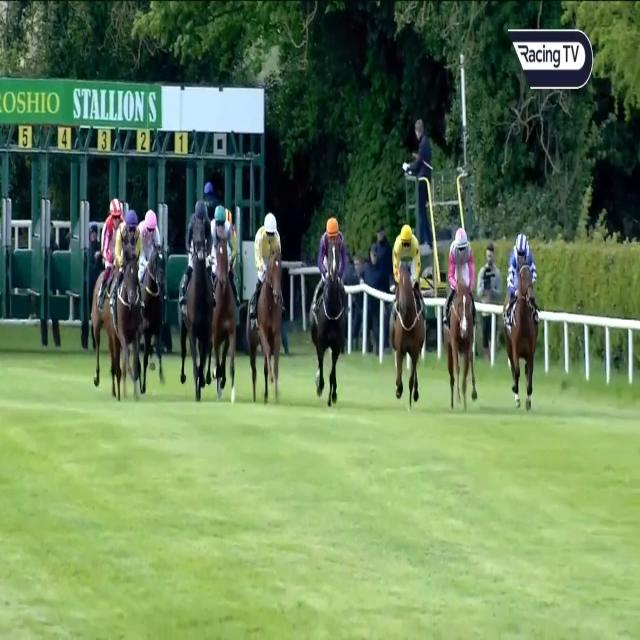horses-racing: (174, 192, 216, 400), (202, 198, 244, 402), (310, 214, 350, 396), (108, 208, 144, 406), (389, 223, 427, 408), (443, 222, 478, 404), (250, 210, 280, 409), (505, 221, 534, 411), (90, 194, 126, 346), (134, 206, 167, 356), (222, 205, 239, 275)
